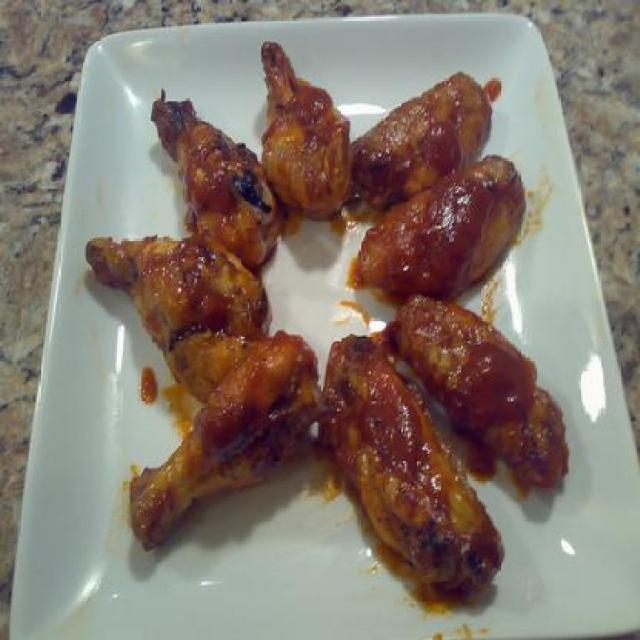Deep fried chicken wing: (86, 46, 580, 603)
